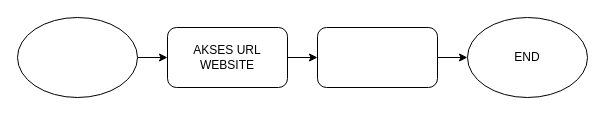
Image size: 605x115. Some labels were removed from this diagram. Each missing label, with the box of its shape:
MASUK KE FORNTPAGE: (316, 26, 438, 88)
START: (16, 16, 138, 98)
